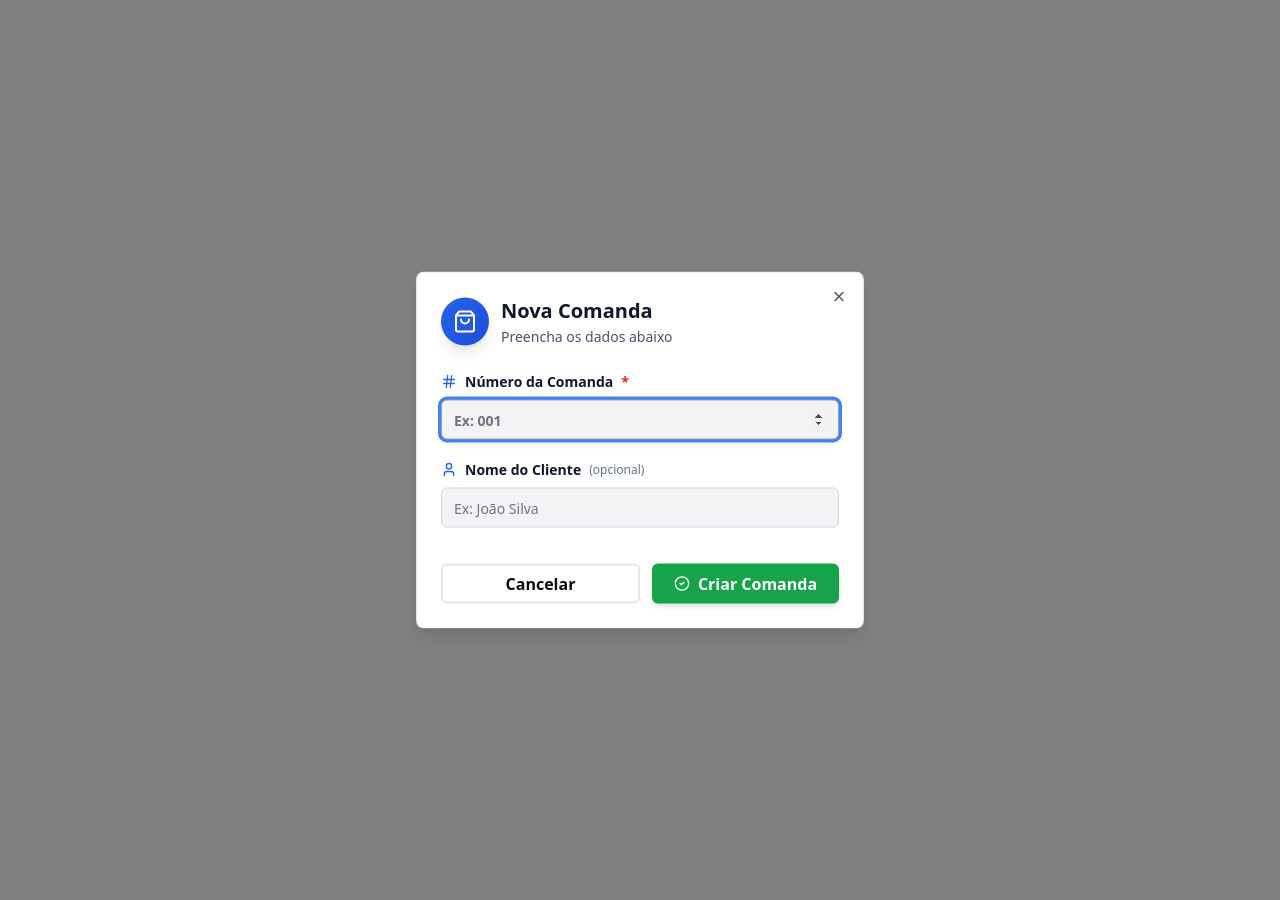
Scenario: NewComandaDialog - Comprehensive Tests › Cancel Functionality › should reset form when cancel clicked
Step 1. Type "50" into the number field with placeholder "Ex: 001" → point(640, 420), box [441,400,839,440]
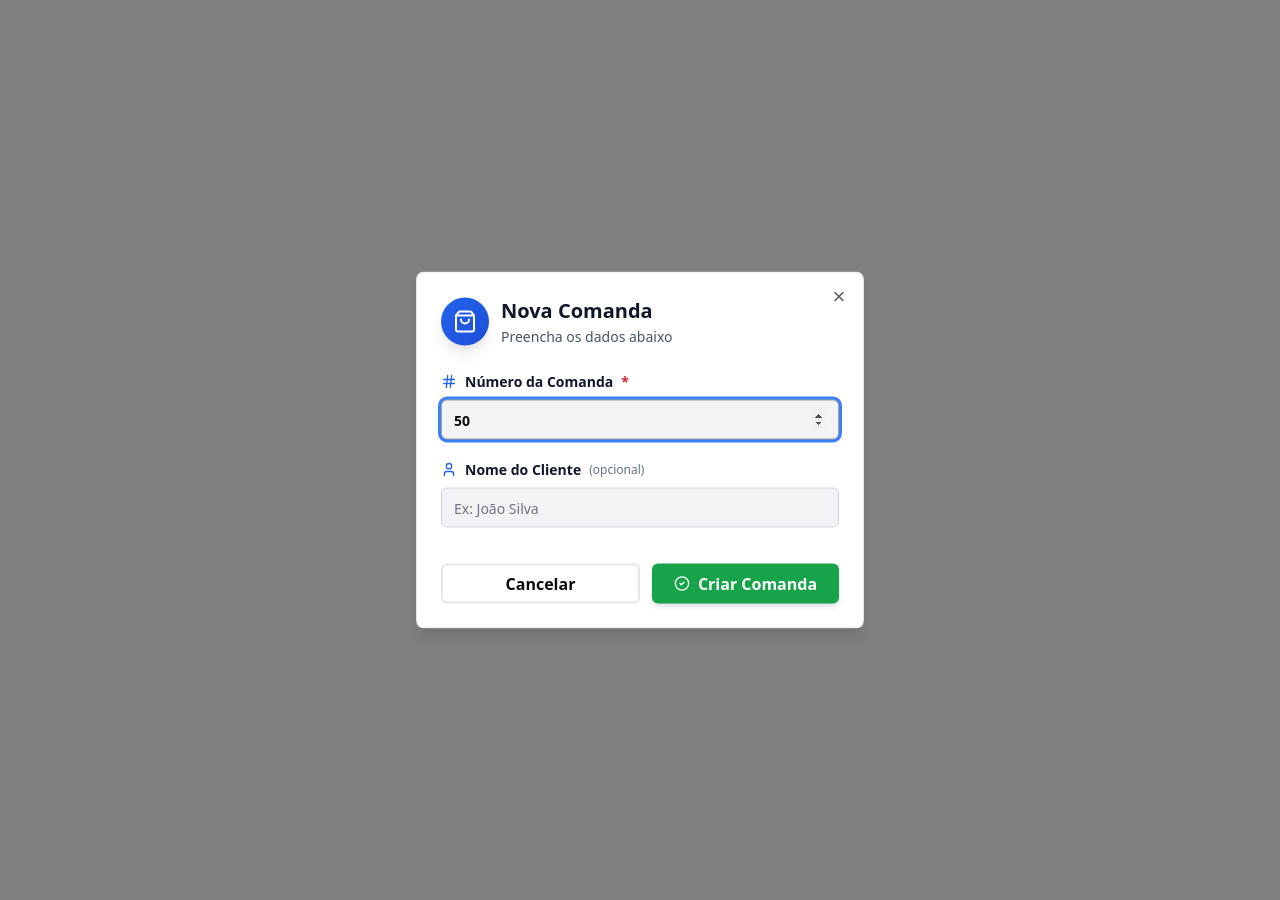
Step 2. Type "Teste" into the field with placeholder "Ex: João Silva" → point(640, 508), box [441,488,839,528]
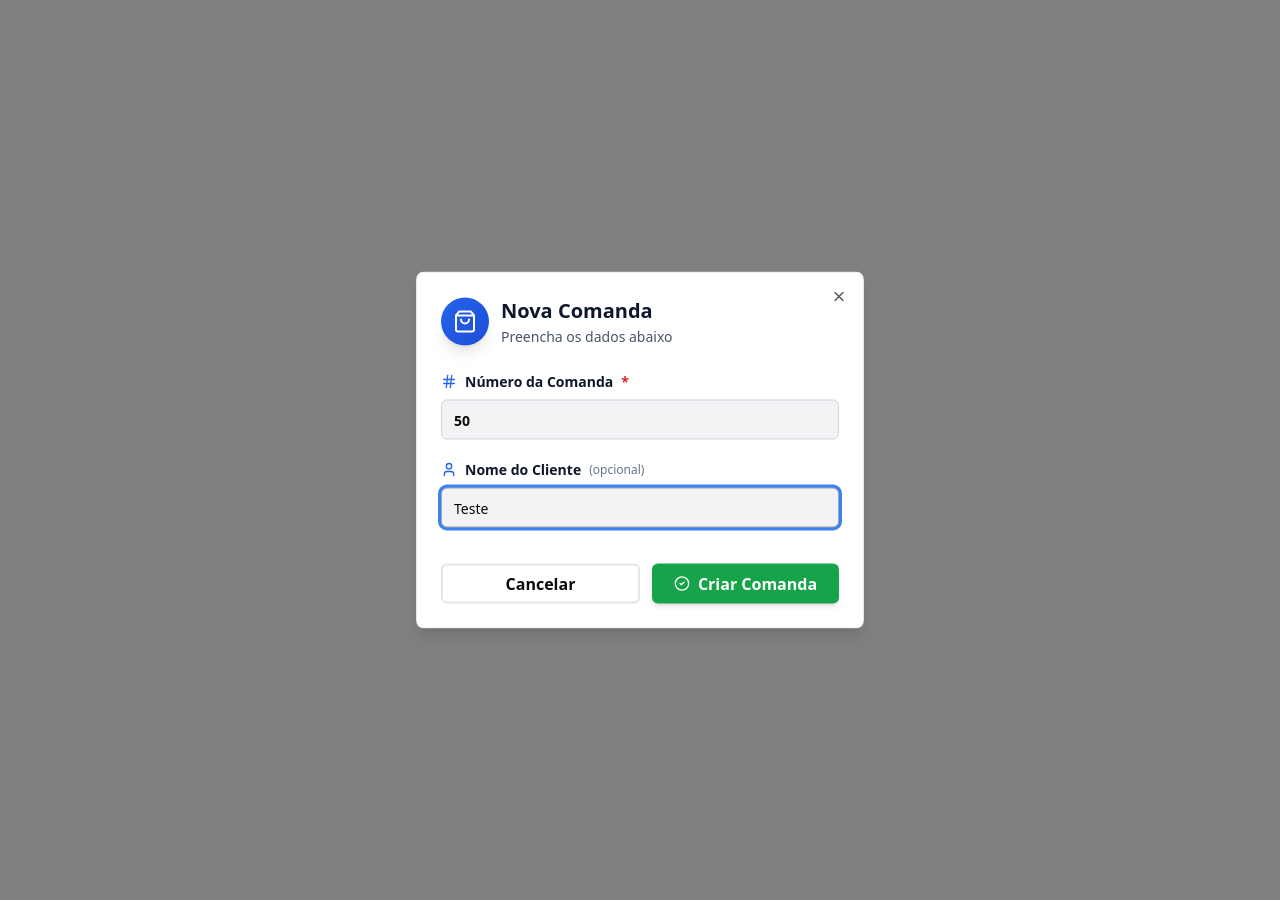
Step 3. Click the button "Cancelar" → point(540, 584), box [441,564,640,604]
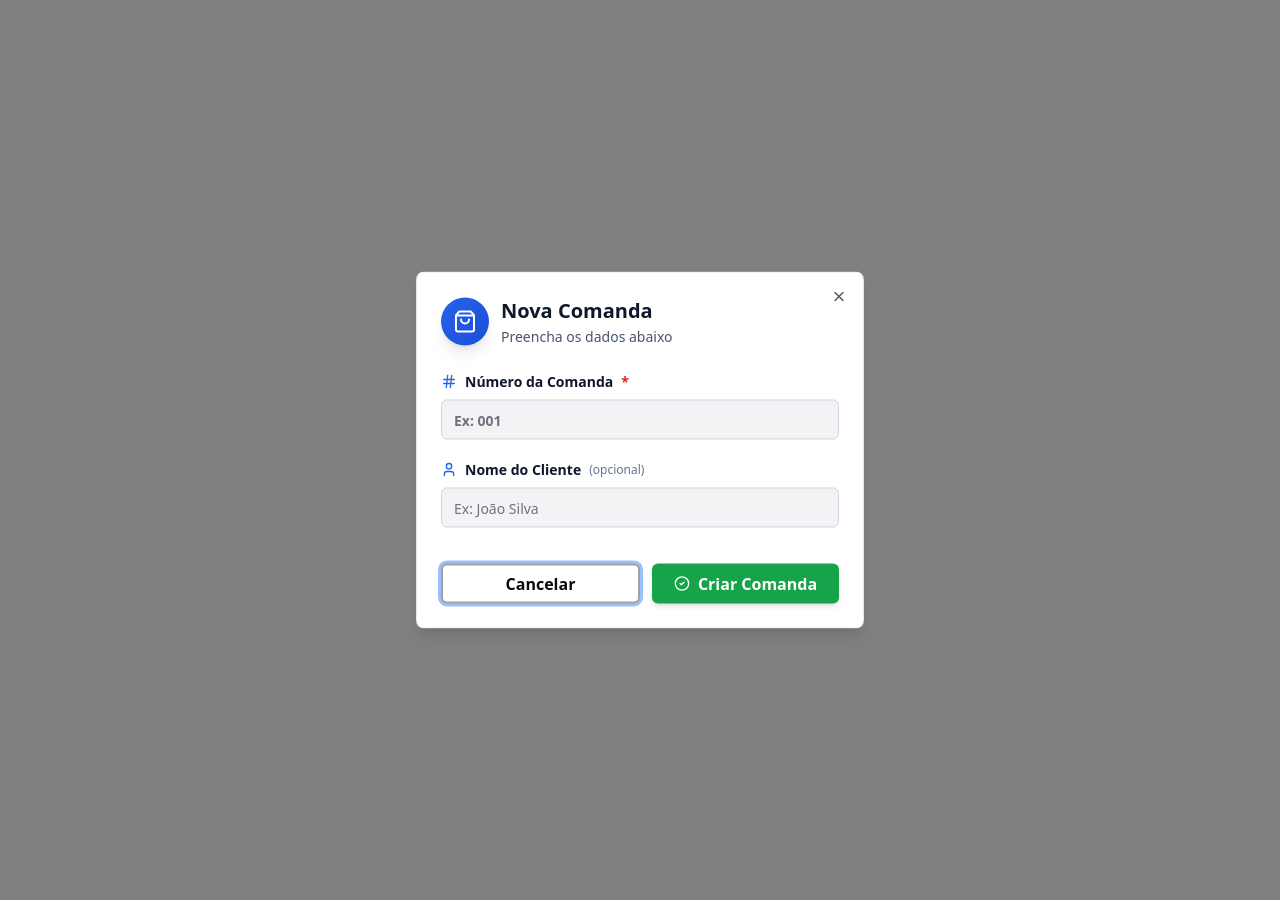
Expected: the number field with placeholder "Ex: 001" is not empty, [441,400,839,440]
Expected: the field with placeholder "Ex: João Silva" is empty, [441,488,839,528]
